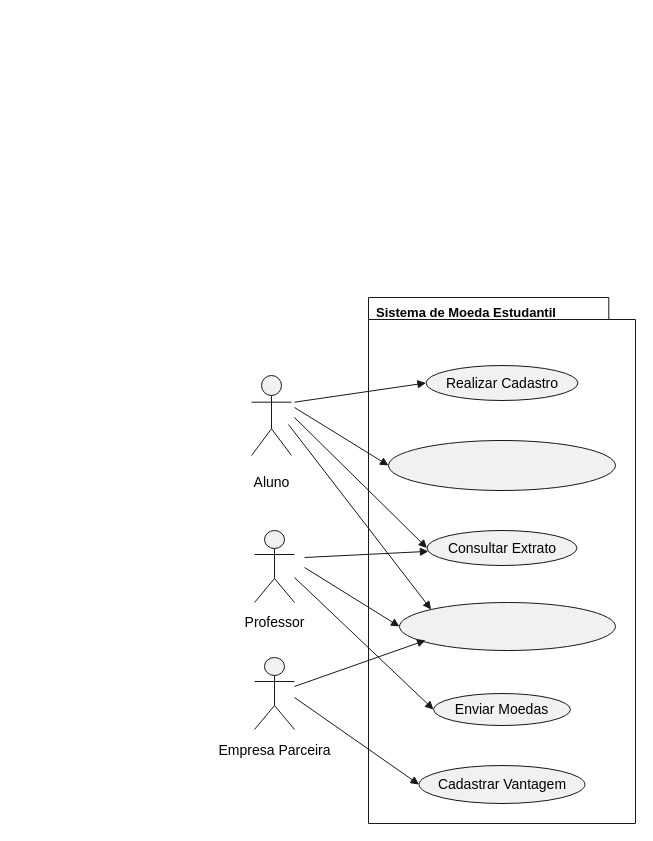
Some shapes in this 653 by 841 pixel diagram are drawn without their labels. Each missing label, with the centre of its shape:
"Fazer Login (Autenticação)" goes at pixel 507 626.
"Trocar Moedas por Vantagens" goes at pixel 502 465.
